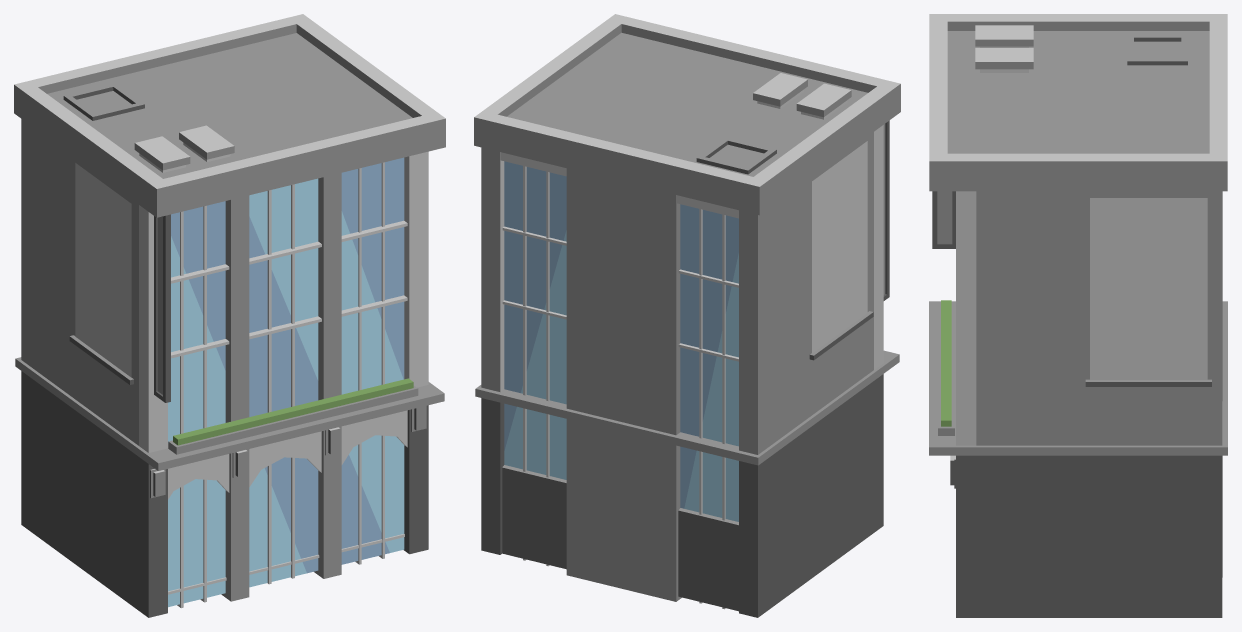
Rendered from hotel_008.glb.
3 renders of one model, left to right at view 1: azimuth 30°, elevation 25°; view 2: azimuth 150°, elevation 25°; view 3: azimuth 270°, elevation 25°, orthographic. The views are drawn at different scales.
Parts seen in each view (by area): view 1: hotel_008; view 2: hotel_008; view 3: hotel_008.
Part boxes in pixels (x1,y1,x2,y2): hotel_008: (14, 14, 445, 617); hotel_008: (474, 14, 900, 617); hotel_008: (929, 14, 1227, 617).
Size of the model in its own units: 5.97 by 8.79 by 5.11.
1 material, 1 textured.
